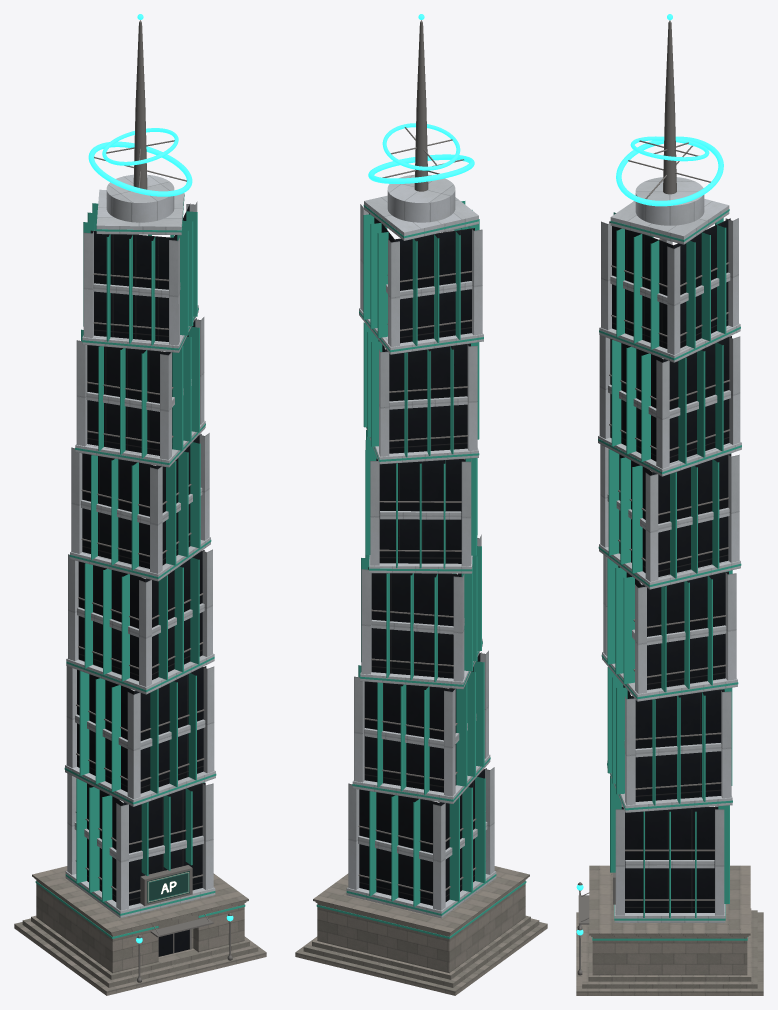
The model's file is agentic-payments.glb.
The picture shows the model from 3 angles, left to right: view 1: azimuth 30°, elevation 25°; view 2: azimuth 150°, elevation 25°; view 3: azimuth 270°, elevation 25°; orthographic projection.
Parts seen in each view (by area): view 1: Landmark · Agentic Payments; view 2: Landmark · Agentic Payments; view 3: Landmark · Agentic Payments.
Part boxes in pixels (x1=…): Landmark · Agentic Payments: x1=14, y1=14, x2=266, y2=995; Landmark · Agentic Payments: x1=295, y1=14, x2=547, y2=995; Landmark · Agentic Payments: x1=576, y1=14, x2=763, y2=995.
Size of the model in its own units: 12 by 66.5 by 12.
Materials: 7 (4 with a texture image).
